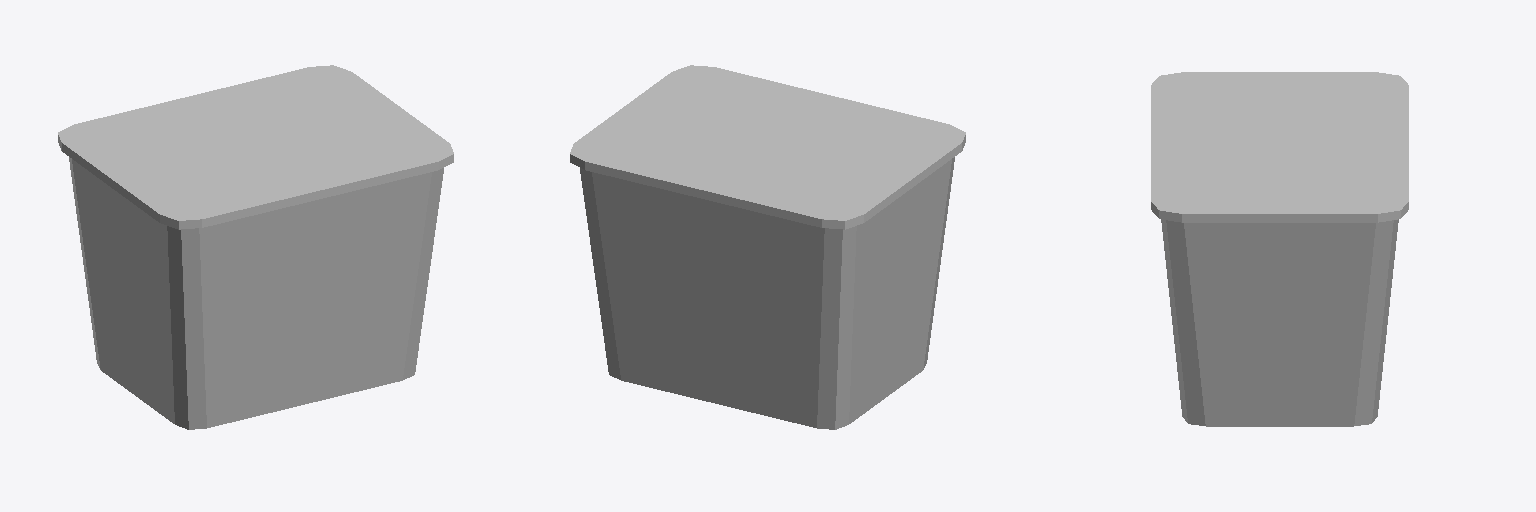
The model's file is garage_box.obj.
3 renders of one model, left to right at view 1: azimuth 30°, elevation 25°; view 2: azimuth 150°, elevation 25°; view 3: azimuth 270°, elevation 25°, orthographic.
Visible parts, largest first — view 1: SM_GarageBox; view 2: SM_GarageBox; view 3: SM_GarageBox.
Boxes of the visible parts, <box> form: SM_GarageBox: <box>58,65,453,429</box>; SM_GarageBox: <box>570,65,965,429</box>; SM_GarageBox: <box>1151,72,1408,426</box>.
Size of the model in its own units: 0.4901 by 0.364 by 0.3779.